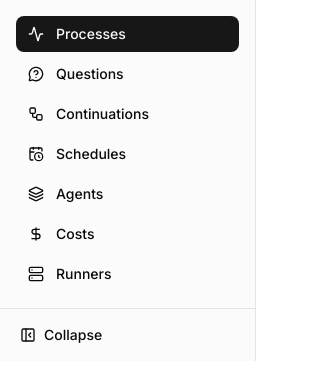
Test: Sidebar › collapsible › the toggle collapses to icon-only links that keep their name as aria-label
Click the button with aria-label "Collapse sidebar" at (128, 335), box [8,317,247,353]
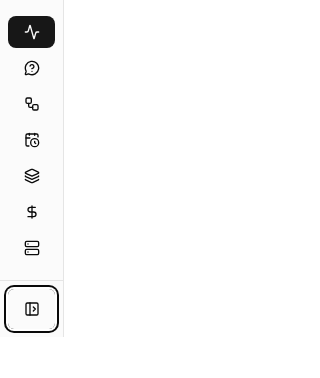
Now the link "Processes" is gone
Now the button named "Expand sidebar" is shown, box [8,289,55,329]
